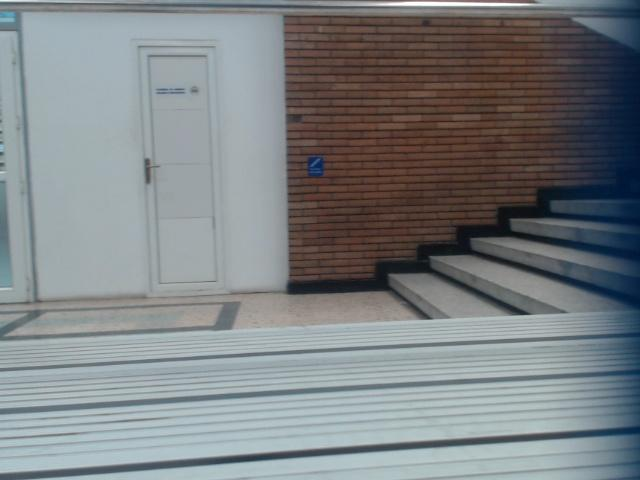rampUp: (0, 312, 639, 479)
